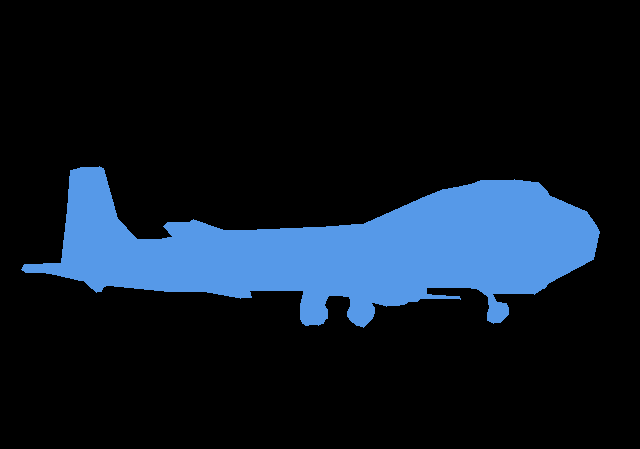Airplane: (21, 166, 600, 327)
